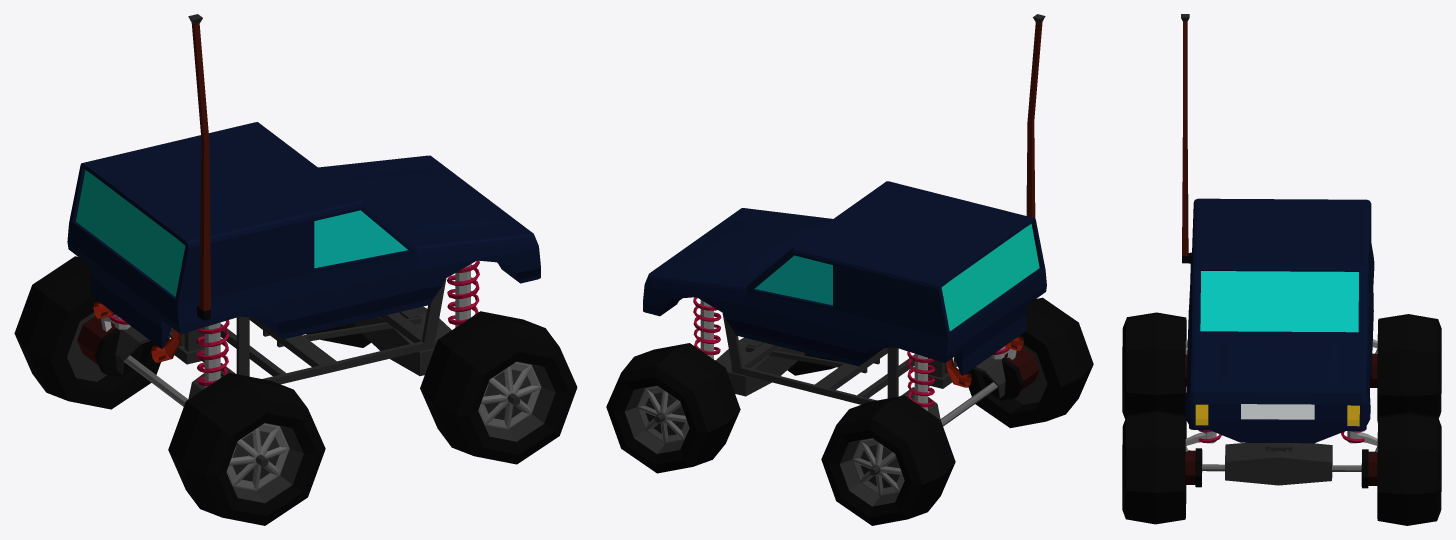
File: car.glb
3 views of the same model, side by side, from view 1: azimuth 30°, elevation 25°; view 2: azimuth 150°, elevation 25°; view 3: azimuth 270°, elevation 25° (orthographic). The views are drawn at different scales.
Visible parts, largest first — view 1: Cube.323_2, backWheel, frontWheel, Cylinder.032_0, Spiral.003_8, Spiral.002_3, Cylinder.003_9; view 2: Cube.323_2, backWheel, frontWheel, Cylinder.032_0, Spiral.004_10, Spiral.001_6; view 3: Cube.323_2, frontWheel, backWheel, Cylinder.032_0.
Part boxes in pixels (x1,y1,x2,y2): Cube.323_2: [67, 14, 540, 362]; backWheel: [14, 256, 325, 525]; frontWheel: [306, 311, 577, 464]; Cylinder.032_0: [115, 278, 451, 399]; Spiral.003_8: [196, 320, 229, 385]; Spiral.002_3: [447, 260, 479, 324]; Cylinder.003_9: [204, 322, 220, 388]; Cube.323_2: [643, 14, 1046, 387]; backWheel: [821, 297, 1093, 525]; frontWheel: [606, 343, 838, 473]; Cylinder.032_0: [715, 313, 1005, 419]; Spiral.004_10: [907, 351, 935, 407]; Spiral.001_6: [693, 297, 721, 354]; Cube.323_2: [1181, 14, 1374, 443]; frontWheel: [1122, 410, 1441, 525]; backWheel: [1122, 312, 1441, 422]; Cylinder.032_0: [1225, 442, 1332, 485].
Bounding box in the file's own units: 1.68 × 2.06 × 1.51.
1 material, 1 textured.
